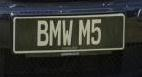5: (91, 18, 102, 45)
B: (36, 20, 48, 47)
M: (77, 18, 91, 46), (49, 19, 62, 47)
W: (62, 19, 73, 47)
